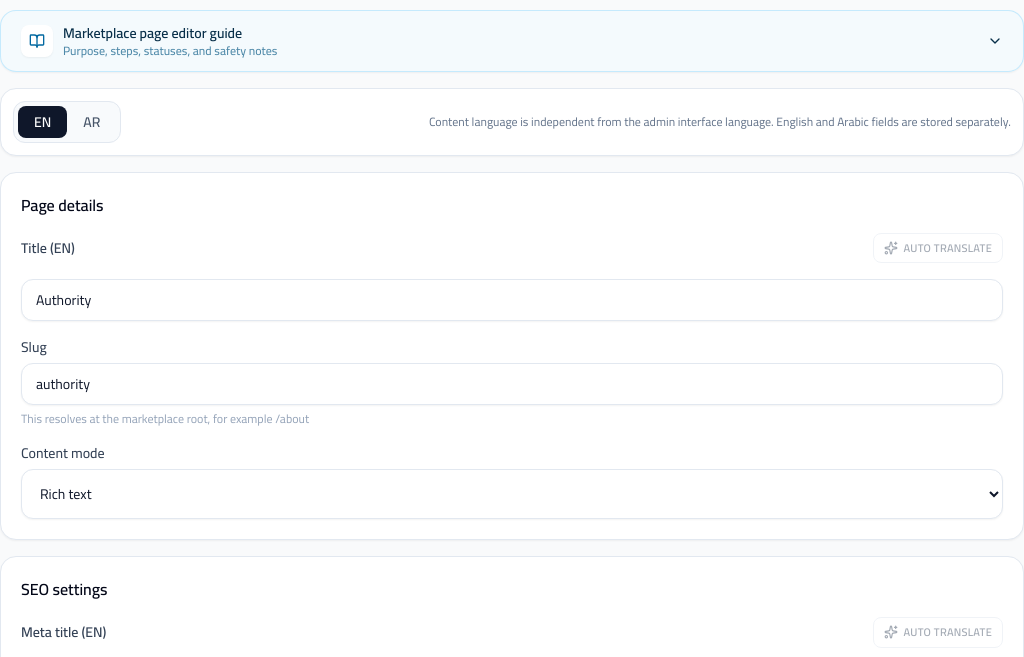
Test: MarketplaceCmsPageEditor version adoption › refreshes and adopts the authoritative version after a conflict
Later steps or results of the test are not shown.
(page scrolled)
Replace the text in the field showing "authority" with "my-draft" at (512, 384), box [21, 363, 1003, 405]
(page scrolled)
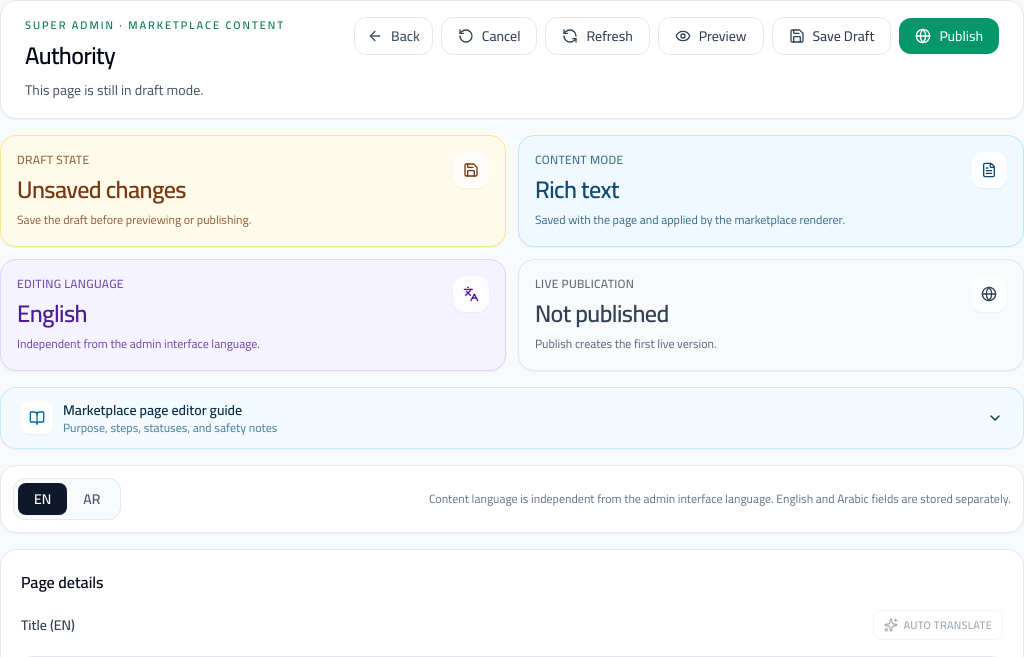
Click the button "Save Draft" at (831, 36), box [772, 17, 891, 55]
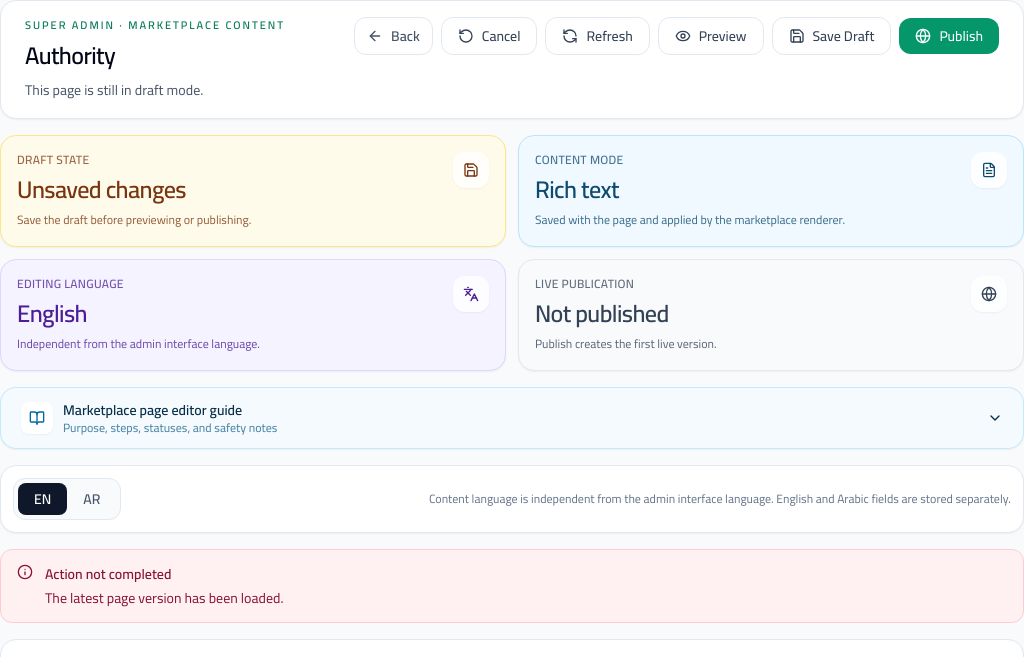
Expected: the text "The latest page version has been loaded." is shown, [45, 584, 284, 610]
